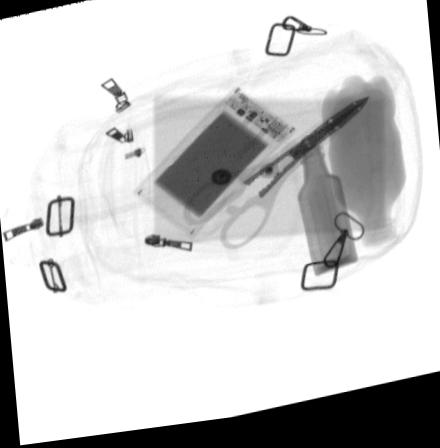Powerbank: (130, 92, 292, 247)
Scissors: (178, 105, 371, 260)
